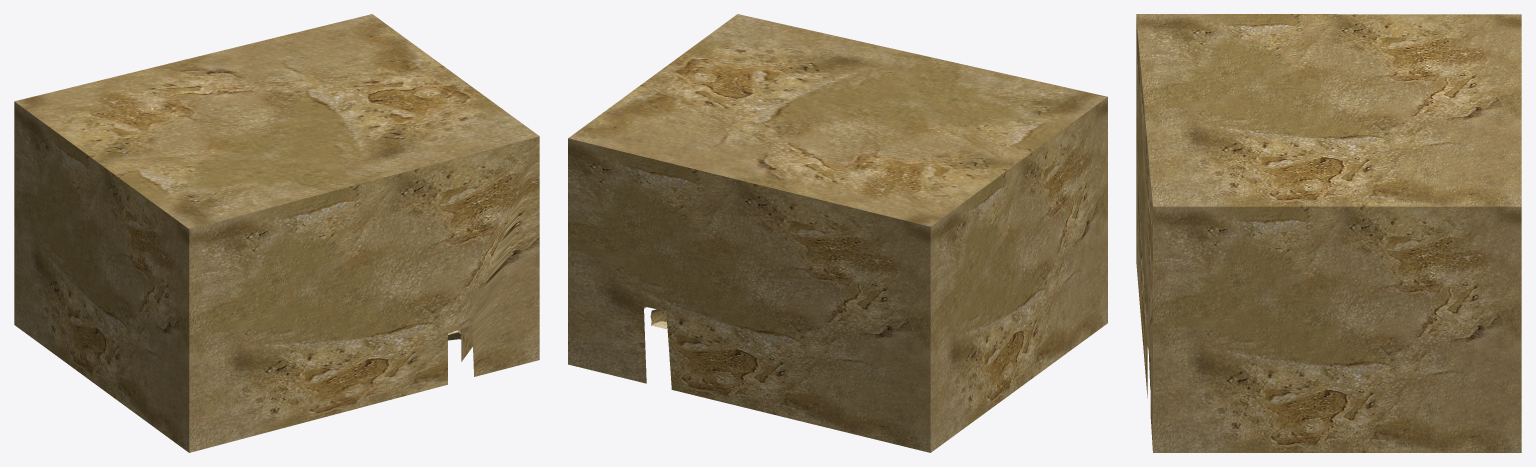
The model's file is cave_a_zero.fbx.
The picture shows the model from 3 angles, left to right: view 1: azimuth 30°, elevation 25°; view 2: azimuth 150°, elevation 25°; view 3: azimuth 270°, elevation 25°; orthographic projection. The views are drawn at different scales.
Visible parts, largest first — view 1: boxsides, boxtop; view 2: boxsides, boxtop; view 3: boxsides, boxtop.
Boxes of the visible parts, x1,y1,x2,y2 form: boxsides: (14, 101, 539, 452); boxtop: (14, 14, 539, 229); boxsides: (568, 97, 1107, 452); boxtop: (568, 14, 1107, 226); boxsides: (1136, 18, 1521, 452); boxtop: (1136, 14, 1521, 206).
Size of the model in its own units: 71730 by 42827 by 60726.
4 materials, 4 textured.
